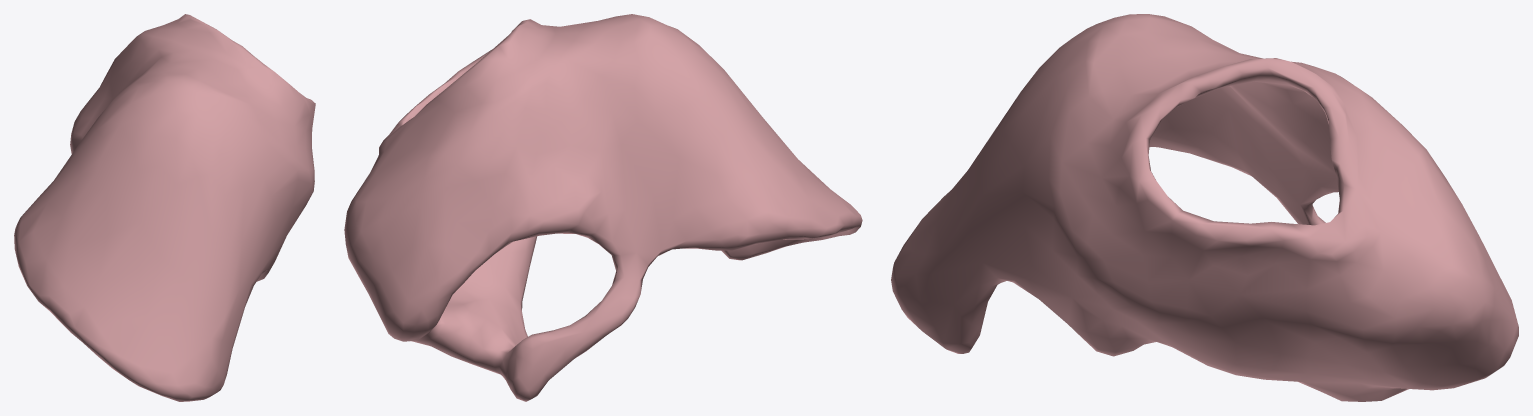
Rendered from fma56719_mm1055.glb.
The picture shows the model from 3 angles, left to right: view 1: azimuth 30°, elevation 25°; view 2: azimuth 150°, elevation 25°; view 3: azimuth 270°, elevation 25°; orthographic projection. The views are drawn at different scales.
Parts seen in each view (by area): view 1: FMA56719_MM1055; view 2: FMA56719_MM1055; view 3: FMA56719_MM1055.
Part boxes in pixels (x1,y1,x2,y2): FMA56719_MM1055: (14, 14, 315, 401); FMA56719_MM1055: (344, 14, 862, 401); FMA56719_MM1055: (891, 14, 1518, 401).
Bounding box in the file's own units: 0.00843 × 0.00696 × 0.0105.
